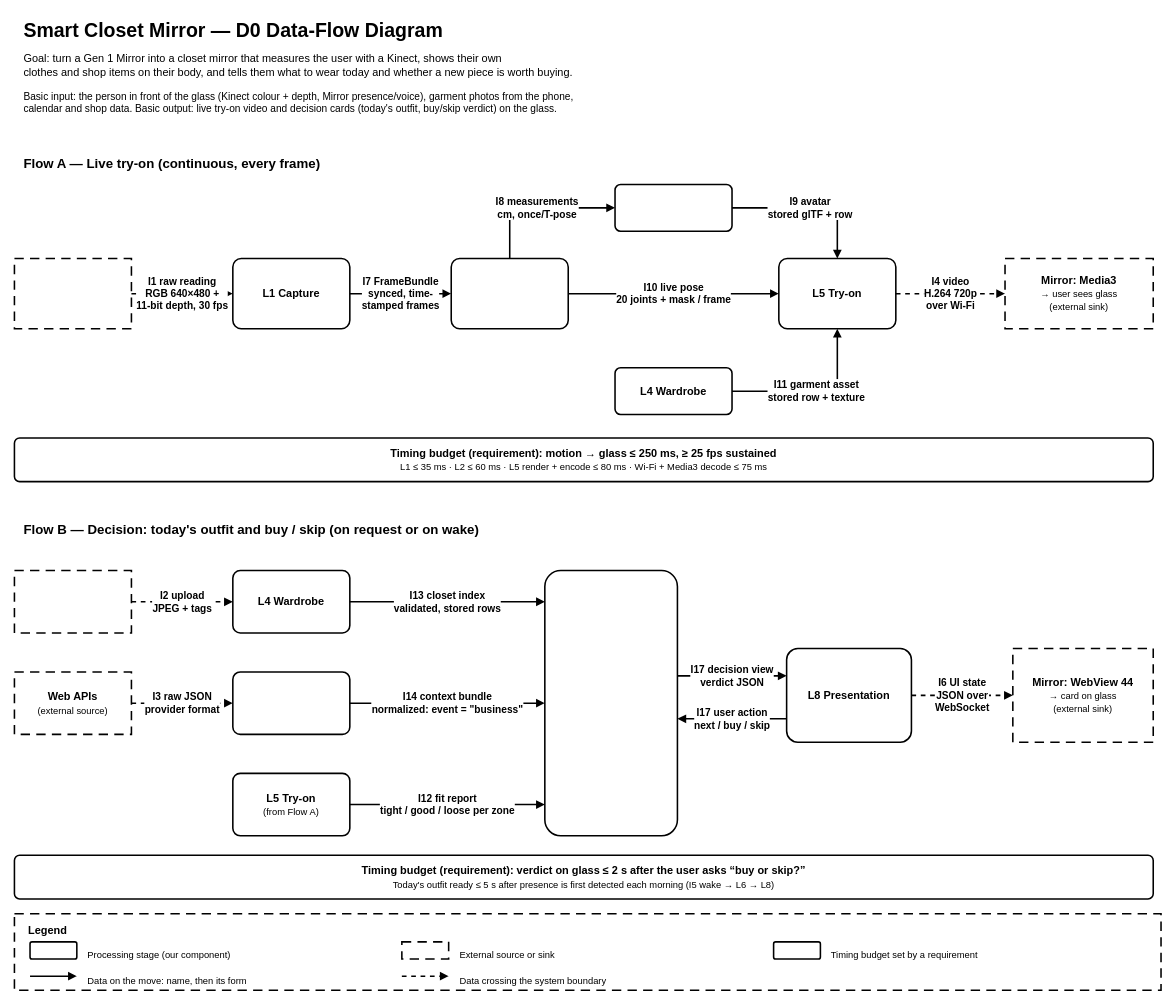
Image size: 1175x1004. Some labels were removed from this diagram. Each missing label, with the centre of its shape:
Kinect 360 (external source): pixel 72 293
L2 Perception: pixel 509 293
L3 Body: pixel 673 207
L6 Decision closet + context + fit + budget → choice: pixel 611 702
L7 Connectors: pixel 291 703
Phone (external source): pixel 72 601
